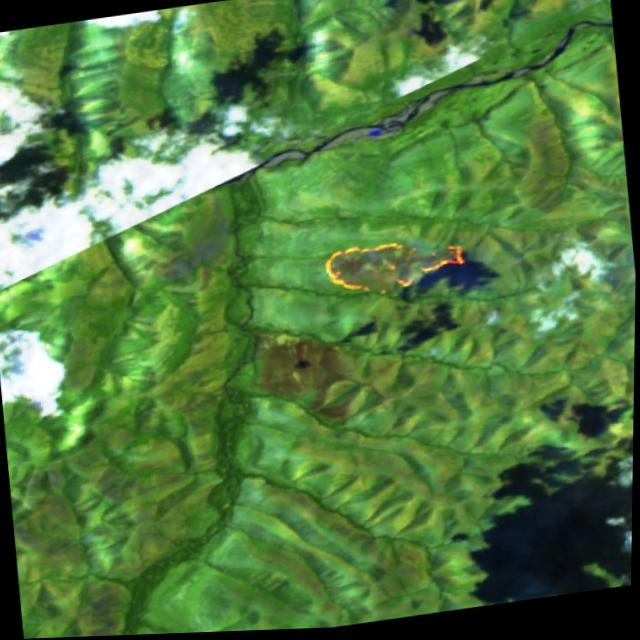fire: (310, 225, 486, 316)
